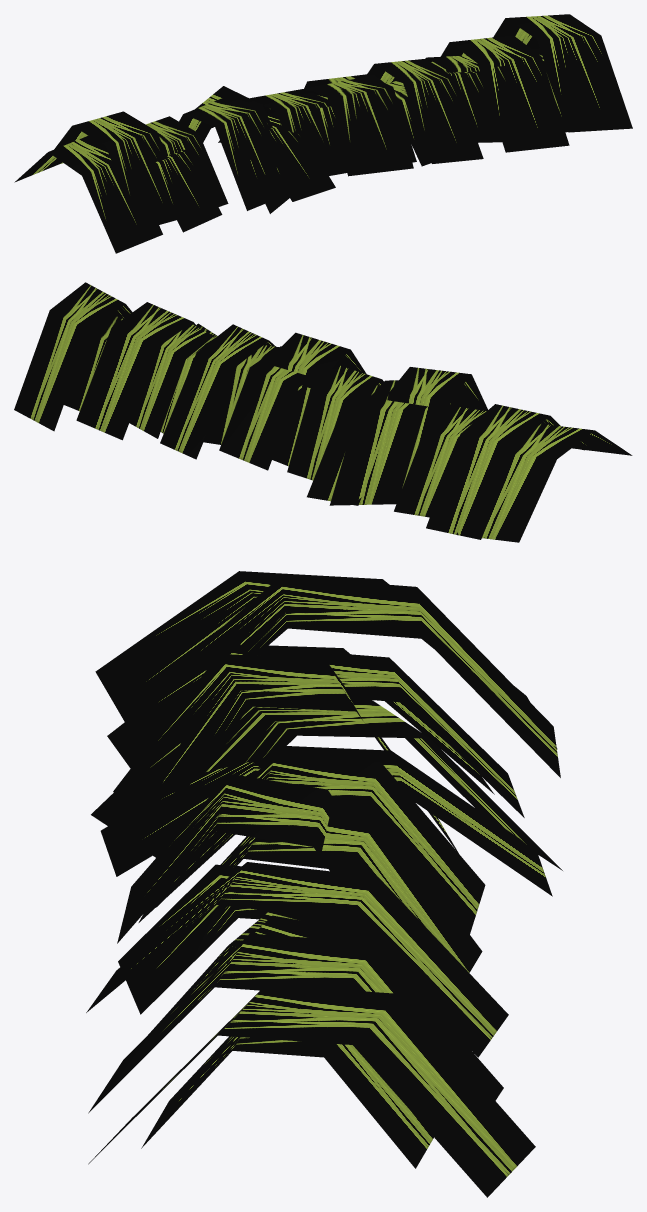
Rendered from Furn_Grass_Edge_A.fbx.
3 views of the same model, one above another, from view 1: azimuth 30°, elevation 25°; view 2: azimuth 150°, elevation 25°; view 3: azimuth 270°, elevation 25° (orthographic). The views are drawn at different scales.
Visible parts, largest first — view 1: Furn_Grass_Edge_A; view 2: Furn_Grass_Edge_A; view 3: Furn_Grass_Edge_A.
Part boxes in pixels (box(x1,y1,x2,y2)): Furn_Grass_Edge_A: box(14, 14, 632, 253); Furn_Grass_Edge_A: box(14, 282, 632, 542); Furn_Grass_Edge_A: box(86, 571, 562, 1197).
Size of the model in its own units: 1 by 0.15 by 0.4.
1 material, 1 textured.
